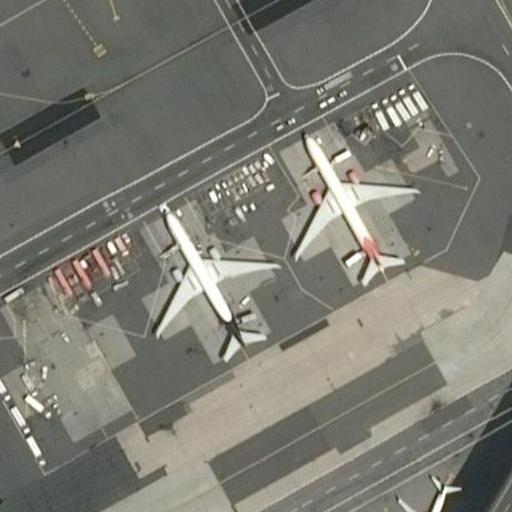Aircraft: (139, 196, 280, 359), (278, 128, 417, 282), (385, 465, 472, 512)
